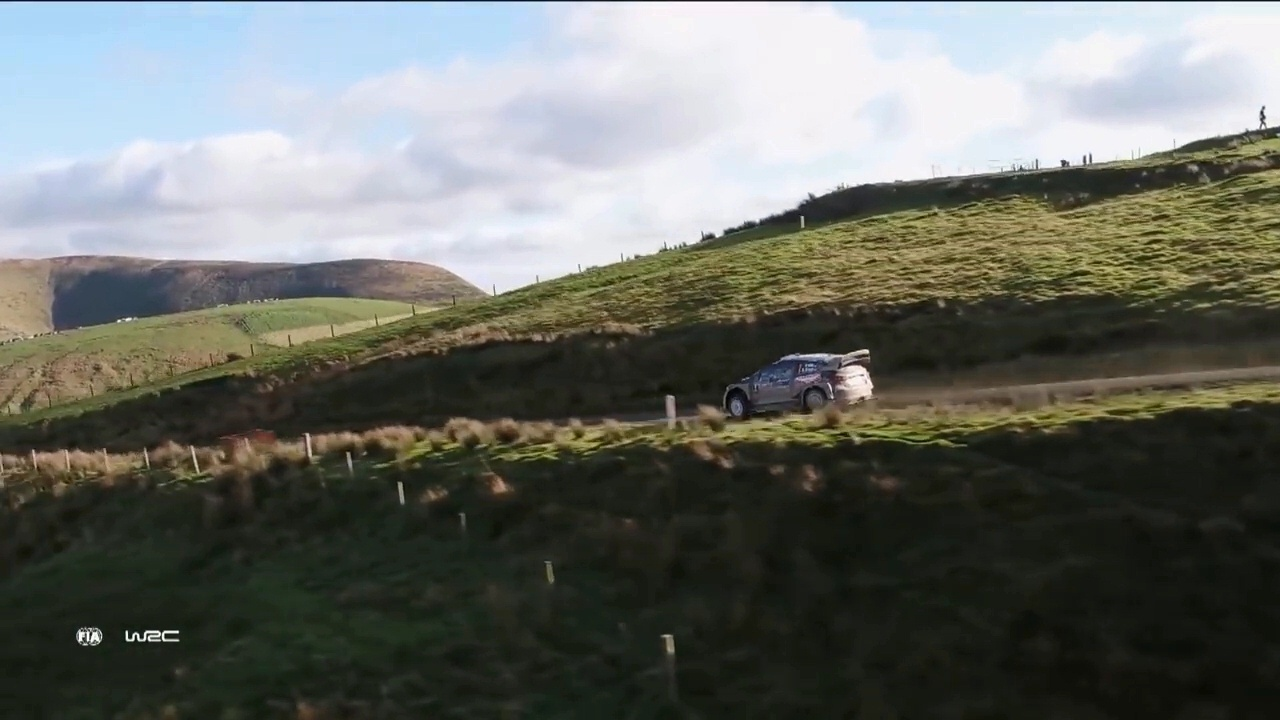araba: (718, 347, 875, 418)
